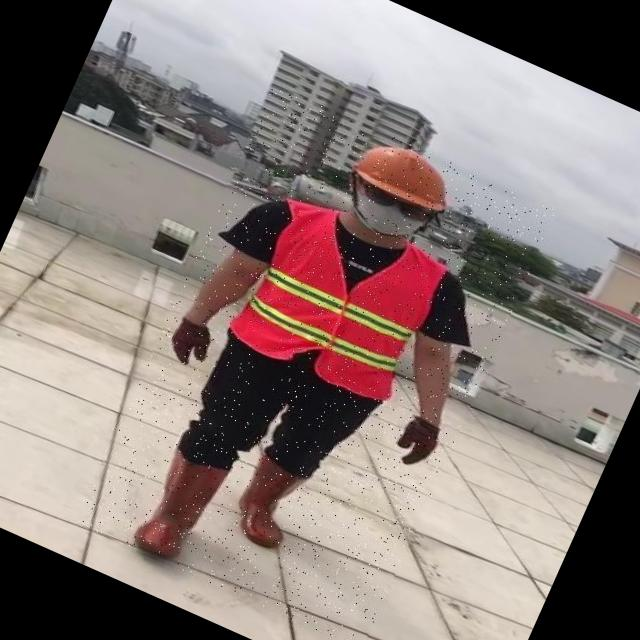hard_hat: (340, 126, 465, 220)
safety_vest: (225, 195, 446, 408)
vehicle: (76, 83, 557, 640)
work_boots: (128, 446, 229, 571), (224, 452, 317, 556)
